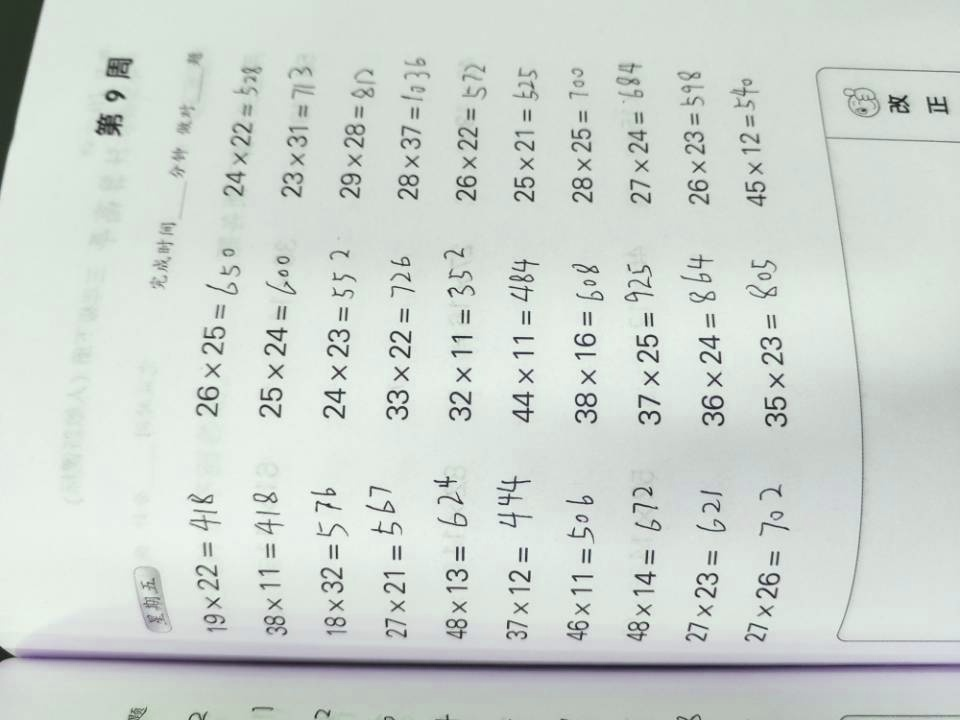equation: (731, 242, 801, 438), (416, 471, 490, 648), (613, 258, 679, 439), (712, 61, 784, 222), (678, 245, 738, 435), (175, 480, 242, 650), (434, 235, 490, 433), (740, 472, 798, 659), (544, 54, 610, 218), (491, 470, 550, 649), (357, 480, 421, 644), (679, 467, 733, 661), (600, 59, 663, 225), (559, 250, 616, 433), (661, 55, 721, 227), (315, 235, 367, 425), (302, 483, 362, 647), (192, 235, 242, 428), (241, 482, 298, 651), (256, 240, 305, 435), (502, 242, 551, 433), (557, 487, 612, 653), (378, 245, 424, 431), (497, 54, 547, 225), (386, 44, 434, 216), (621, 477, 668, 650), (270, 51, 318, 216), (334, 57, 382, 219), (449, 51, 495, 219), (222, 49, 261, 210)
